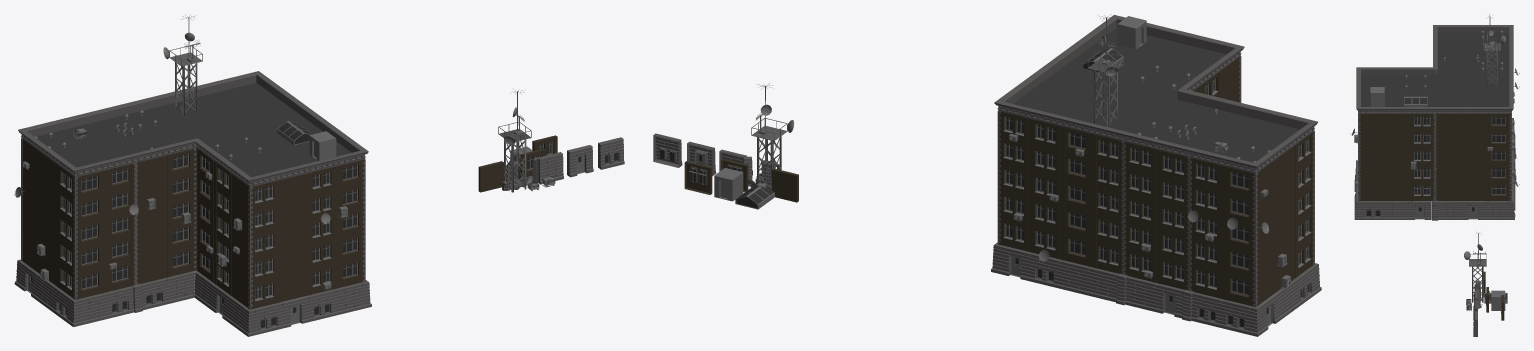
The model's file is buidling.fbx.
The picture shows the model from 3 angles, left to right: view 1: azimuth 30°, elevation 25°; view 2: azimuth 150°, elevation 25°; view 3: azimuth 270°, elevation 25°; orthographic projection. The views are drawn at different scales.
Visible parts, largest first — view 1: building_base.001, antenna_big.001, antenna_big, ground_floor_wall_03.006, ground_floor_wall_03.007, middle_floor_wall_02.035, middle_floor_wall_02.029, ground_floor_wall_01.005, ground_floor_wall_02.009, ground_floor_wall_02.005, ground_floor_wall_02.006, middle_floor_wall_03.020 (+60 smaller); view 2: building_base.001, antenna_big.001, antenna_big, ground_floor_wall_02.011, middle_floor_wall_02.008, middle_floor_wall_02.010, middle_floor_wall_02.004, middle_floor_wall_02.002, middle_floor_wall_02.006, middle_floor_wall_02.009, ground_floor_wall_03.002, middle_floor_wall_02.012 (+61 smaller); view 3: building_base.001, antenna_big.001, antenna_big, middle_floor_wall_01.005, middle_floor_wall_01.041, middle_floor_wall_01.006, middle_floor_wall_01.003, middle_floor_wall_01.007, middle_floor_wall_01.039, middle_floor_wall_01.040, middle_floor_wall_01.043, middle_floor_wall_01.001 (+43 smaller).
Part boxes in pixels (box(x1,y1,x2,y2)): building_base.001: box(37, 83, 351, 177); antenna_big.001: box(163, 15, 202, 115); antenna_big: box(498, 89, 531, 192); ground_floor_wall_03.006: box(254, 302, 283, 334); ground_floor_wall_03.007: box(308, 289, 336, 321); middle_floor_wall_02.035: box(307, 166, 336, 197); middle_floor_wall_02.029: box(307, 240, 336, 270); ground_floor_wall_01.005: box(281, 295, 309, 328); ground_floor_wall_02.009: box(335, 282, 363, 315); ground_floor_wall_02.005: box(79, 292, 107, 324); ground_floor_wall_02.006: box(166, 271, 194, 303); middle_floor_wall_03.020: box(105, 163, 134, 194); building_base.001: box(1013, 28, 1299, 162); antenna_big.001: box(1087, 14, 1123, 127); antenna_big: box(751, 83, 794, 187); ground_floor_wall_02.011: box(1058, 259, 1089, 295); middle_floor_wall_02.008: box(1156, 176, 1188, 210); middle_floor_wall_02.010: box(1156, 150, 1188, 183); middle_floor_wall_02.004: box(1156, 230, 1188, 263); middle_floor_wall_02.002: box(1156, 256, 1188, 289); middle_floor_wall_02.006: box(1156, 203, 1188, 237); middle_floor_wall_02.009: box(1124, 142, 1156, 176); ground_floor_wall_03.002: box(1220, 299, 1250, 334); middle_floor_wall_02.012: box(1190, 238, 1222, 272); building_base.001: box(1361, 32, 1508, 106); antenna_big.001: box(1483, 14, 1505, 86); antenna_big: box(1464, 232, 1486, 302); middle_floor_wall_01.005: box(1460, 148, 1485, 166); middle_floor_wall_01.041: box(1384, 148, 1409, 166); middle_floor_wall_01.006: box(1436, 148, 1460, 166); middle_floor_wall_01.003: box(1460, 166, 1485, 183); middle_floor_wall_01.007: box(1460, 131, 1485, 148); middle_floor_wall_01.039: box(1384, 166, 1409, 183); middle_floor_wall_01.040: box(1359, 148, 1383, 166); middle_floor_wall_01.043: box(1384, 131, 1409, 148); middle_floor_wall_01.001: box(1460, 183, 1485, 200).
Bounding box in the file's own units: 374 × 149 × 131.
